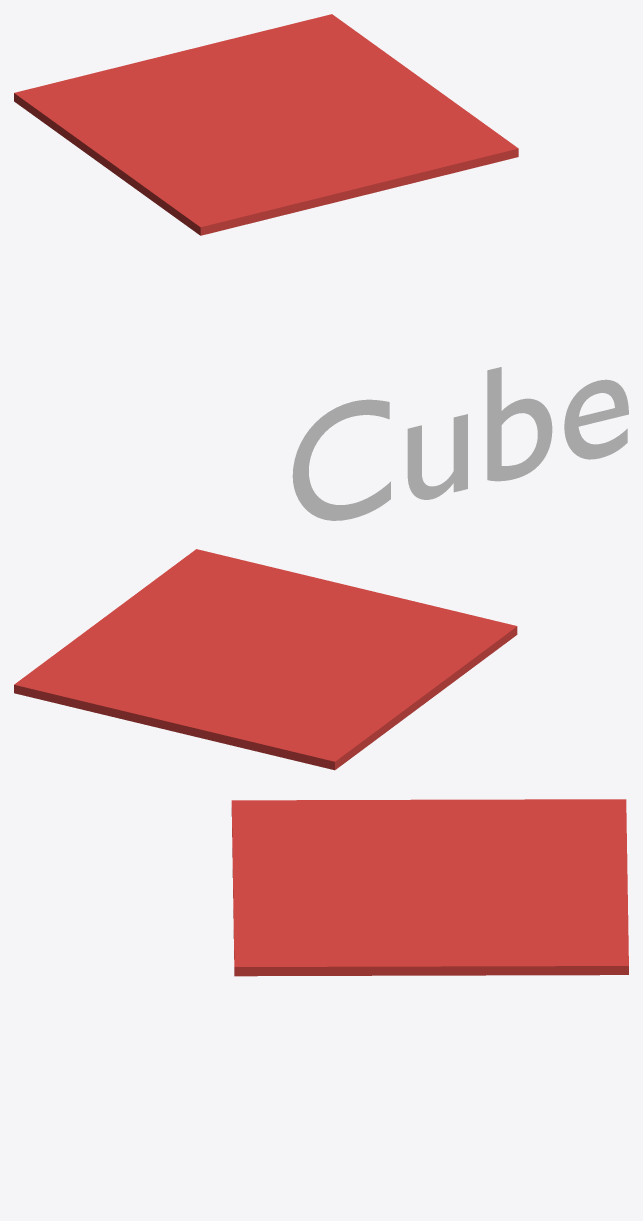
3 renders of one model, top to bottom at view 1: azimuth 30°, elevation 25°; view 2: azimuth 150°, elevation 25°; view 3: azimuth 270°, elevation 25°, orthographic. The views are drawn at different scales.
Visible parts, largest first — view 1: Cube, Text; view 2: Cube; view 3: Cube.
Part boxes in pixels (box(x1,y1,x2,y2)): Cube: box(14, 14, 518, 235); Text: box(292, 367, 628, 520); Cube: box(14, 549, 517, 770); Cube: box(231, 799, 628, 976).
Bounding box in the file's own units: 2.11 × 1.37 × 3.12.
